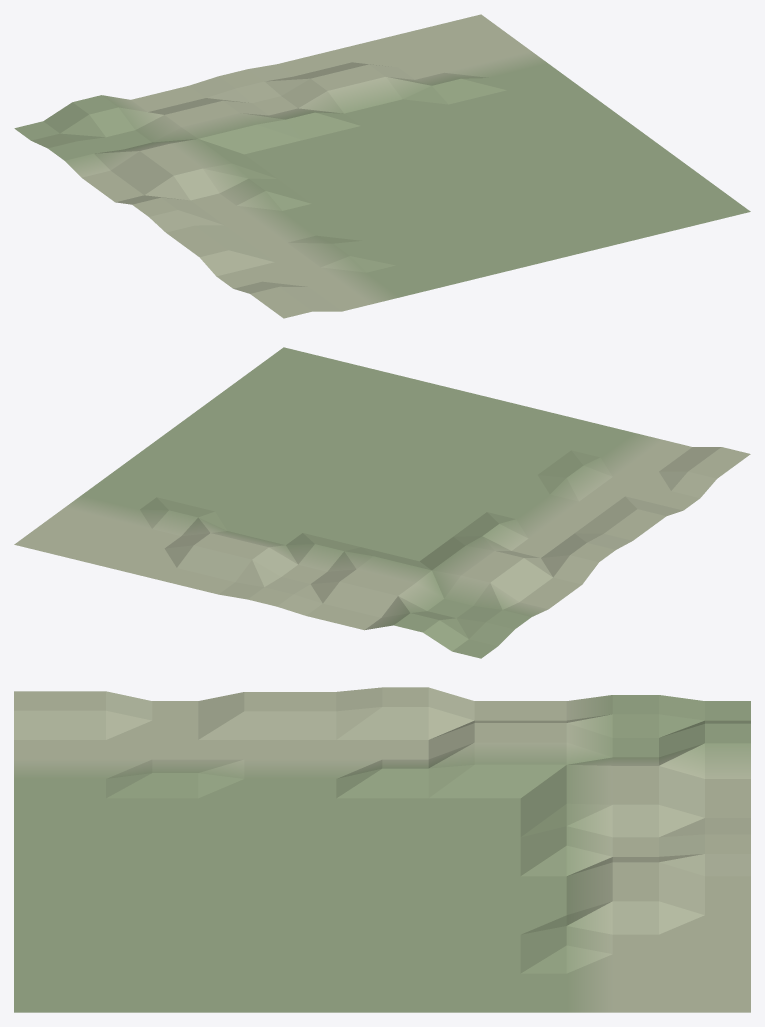
3 renders of one model, top to bottom at view 1: azimuth 30°, elevation 25°; view 2: azimuth 150°, elevation 25°; view 3: azimuth 270°, elevation 25°, orthographic. The views are drawn at different scales.
Size of the model in its own units: 32 by 0.8143 by 32.
